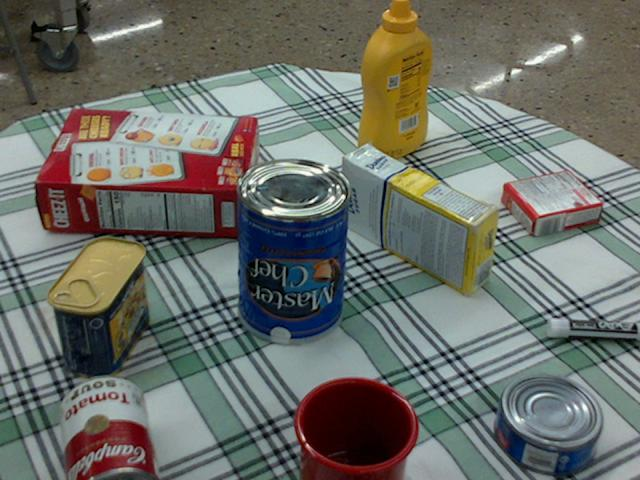cracker_box: (36, 109, 255, 234)
gelatin_box: (500, 170, 601, 236)
large_marker: (547, 317, 639, 340)
master_chef_can: (235, 158, 350, 343)
mug: (289, 377, 415, 479)
mustard_bottle: (356, 0, 431, 159)
potted_meat_can: (47, 236, 147, 378)
sugar_box: (339, 145, 498, 295)
tomato_soup_can: (59, 375, 156, 479)
tuna_fish_can: (494, 374, 602, 475)
